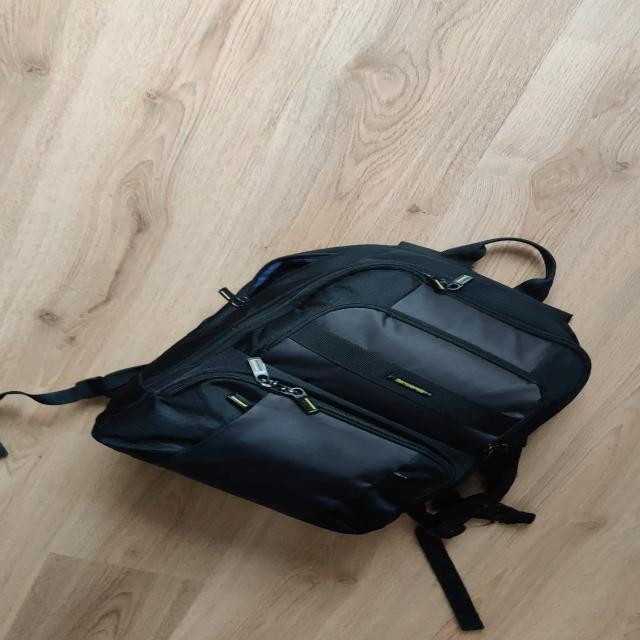backpack: (73, 230, 621, 547)
